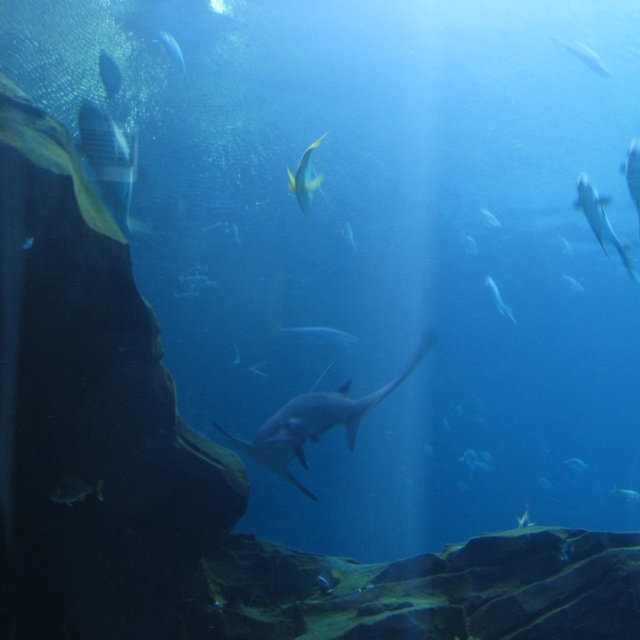Shark: (213, 341, 436, 497)
